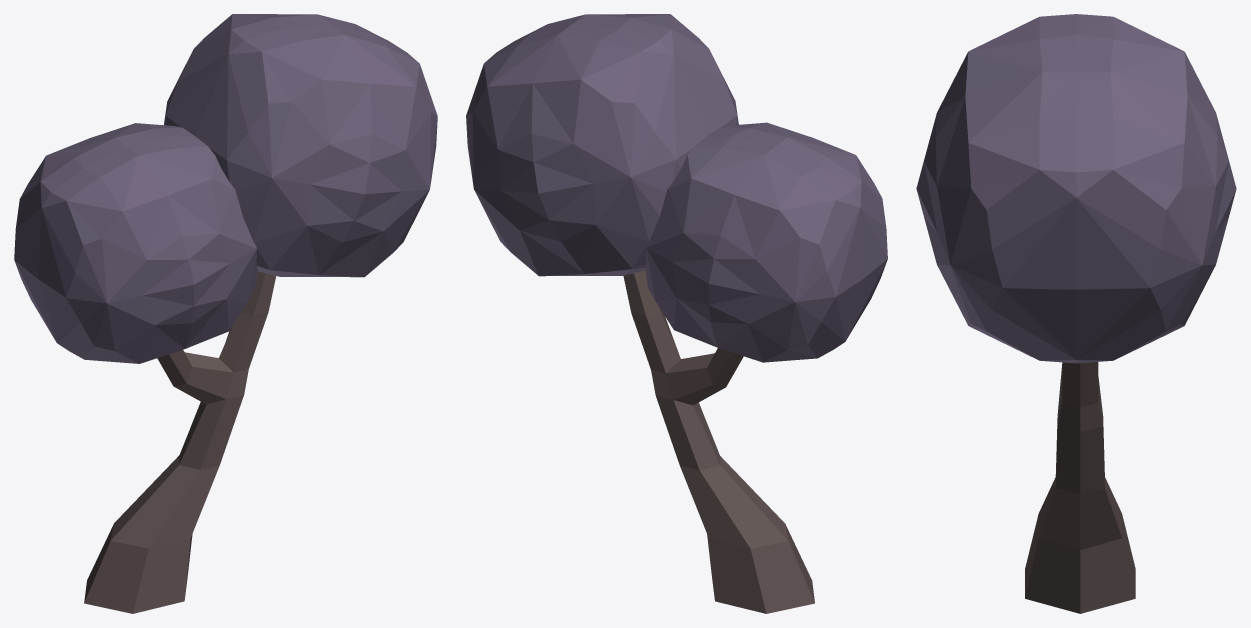
Rendered from Tree.fbx.
3 renders of one model, left to right at view 1: azimuth 30°, elevation 25°; view 2: azimuth 150°, elevation 25°; view 3: azimuth 270°, elevation 25°, orthographic. The views are drawn at different scales.
Visible parts, largest first — view 1: Tree; view 2: Tree; view 3: Tree.
Part boxes in pixels (left/top/right/bottom): Tree: left=14, top=14, right=437, bottom=613; Tree: left=466, top=14, right=887, bottom=613; Tree: left=916, top=14, right=1236, bottom=613.
Bounding box in the file's own units: 3.92 × 5.26 × 2.41.
